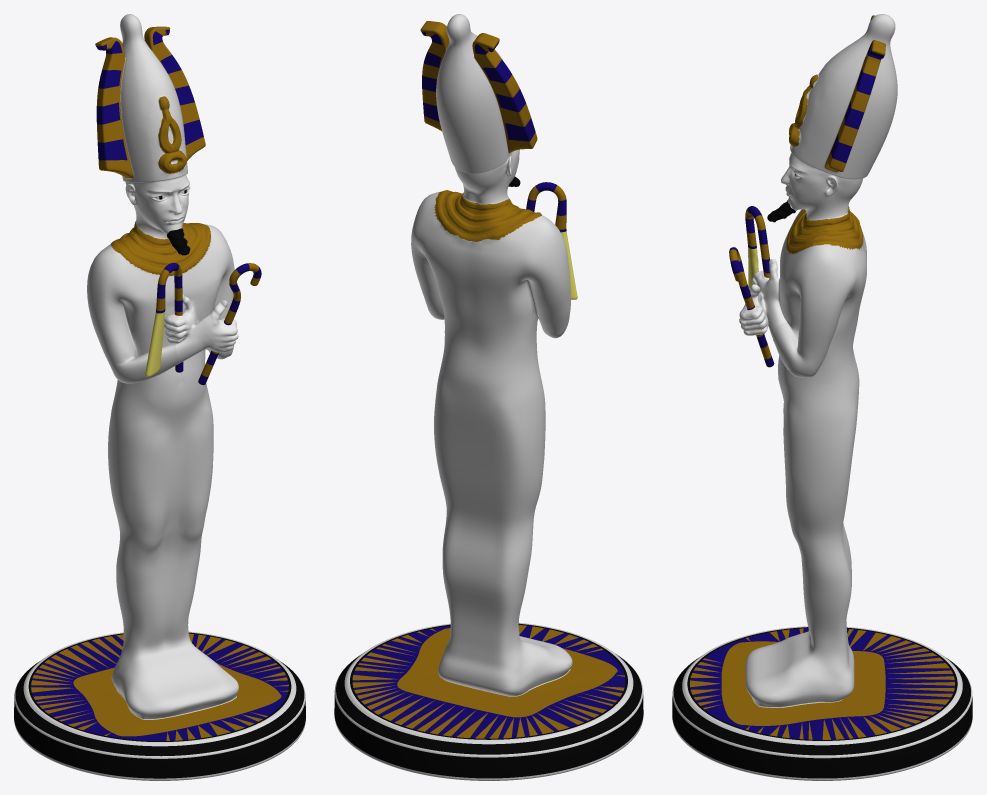
Rendered from Osiris.fbx.
3 renders of one model, left to right at view 1: azimuth 30°, elevation 25°; view 2: azimuth 150°, elevation 25°; view 3: azimuth 270°, elevation 25°, orthographic. The views are drawn at different scales.
Parts seen in each view (by area): view 1: 16785_Osiris_v1_NEW; view 2: 16785_Osiris_v1_NEW; view 3: 16785_Osiris_v1_NEW.
Part boxes in pixels (x1,y1,x2,y2): 16785_Osiris_v1_NEW: [14, 14, 305, 780]; 16785_Osiris_v1_NEW: [334, 14, 643, 780]; 16785_Osiris_v1_NEW: [672, 14, 972, 780].
Bounding box in the file's own units: 399 × 1029 × 399.
